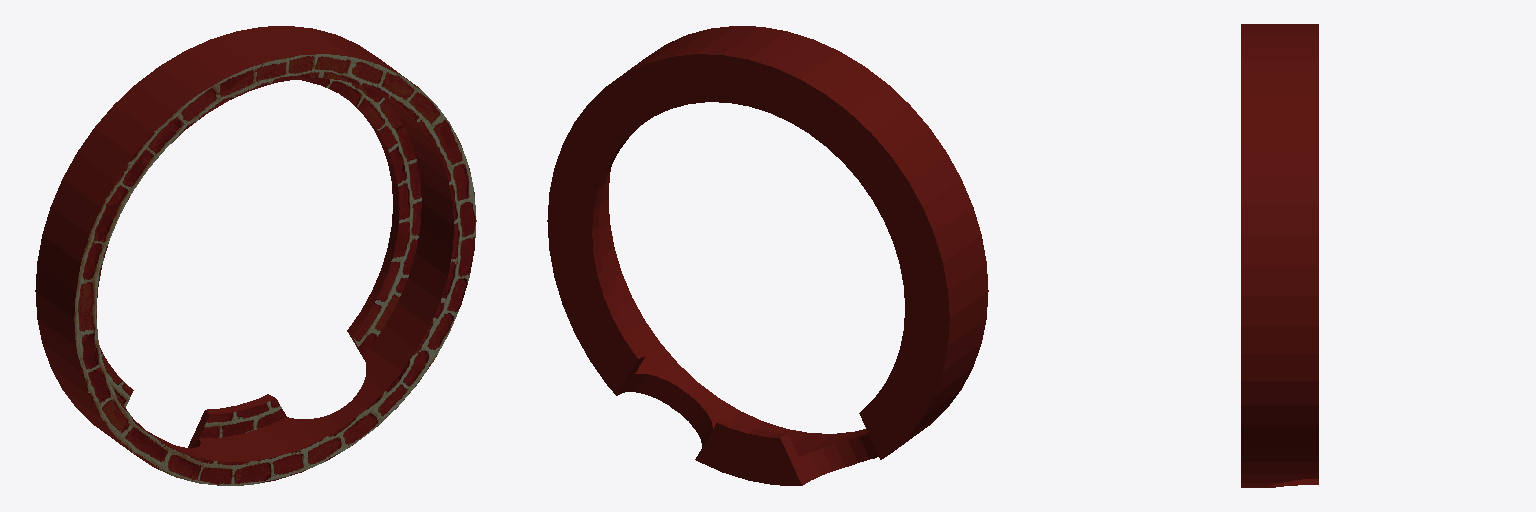
The picture shows the model from 3 angles: view 1: azimuth 30°, elevation 25°; view 2: azimuth 150°, elevation 25°; view 3: azimuth 270°, elevation 25°; orthographic projection.
Bounding box in the file's own units: 18 × 18 × 3.
1 materials, 1 textured.